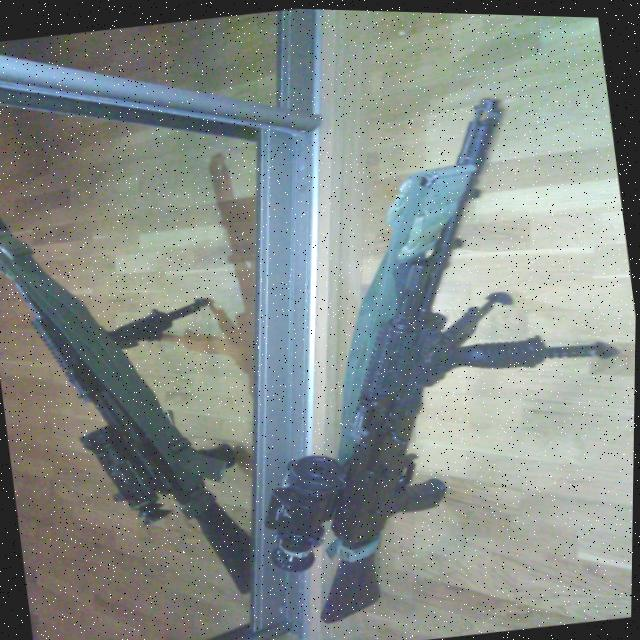firearm: (203, 71, 639, 638), (0, 168, 265, 622)
